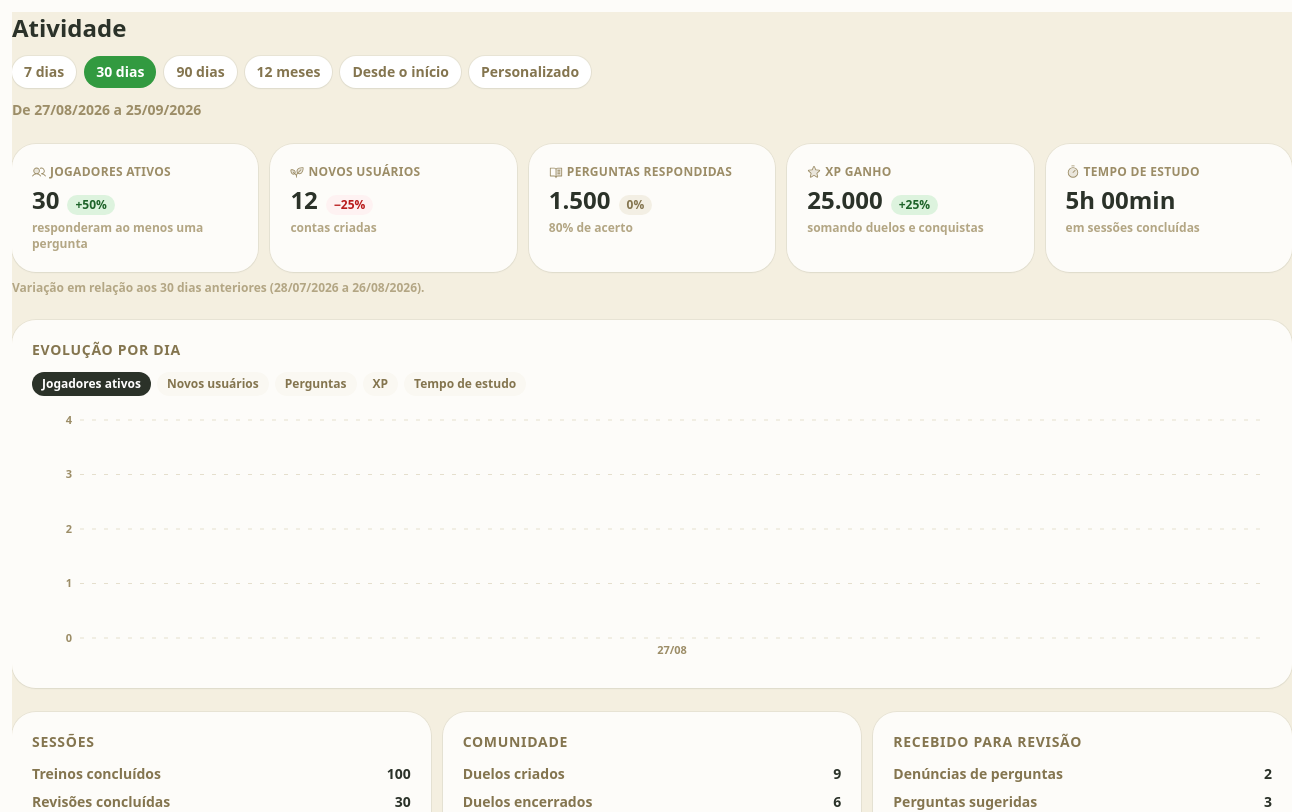
ActivityPanel › shows everything since the first day with data, without comparing
Expected: the element "Jogadores ativos" is shown, [32,163,203,252]
Click the button "Desde o início" at (401, 72), box [340,56,461,88]
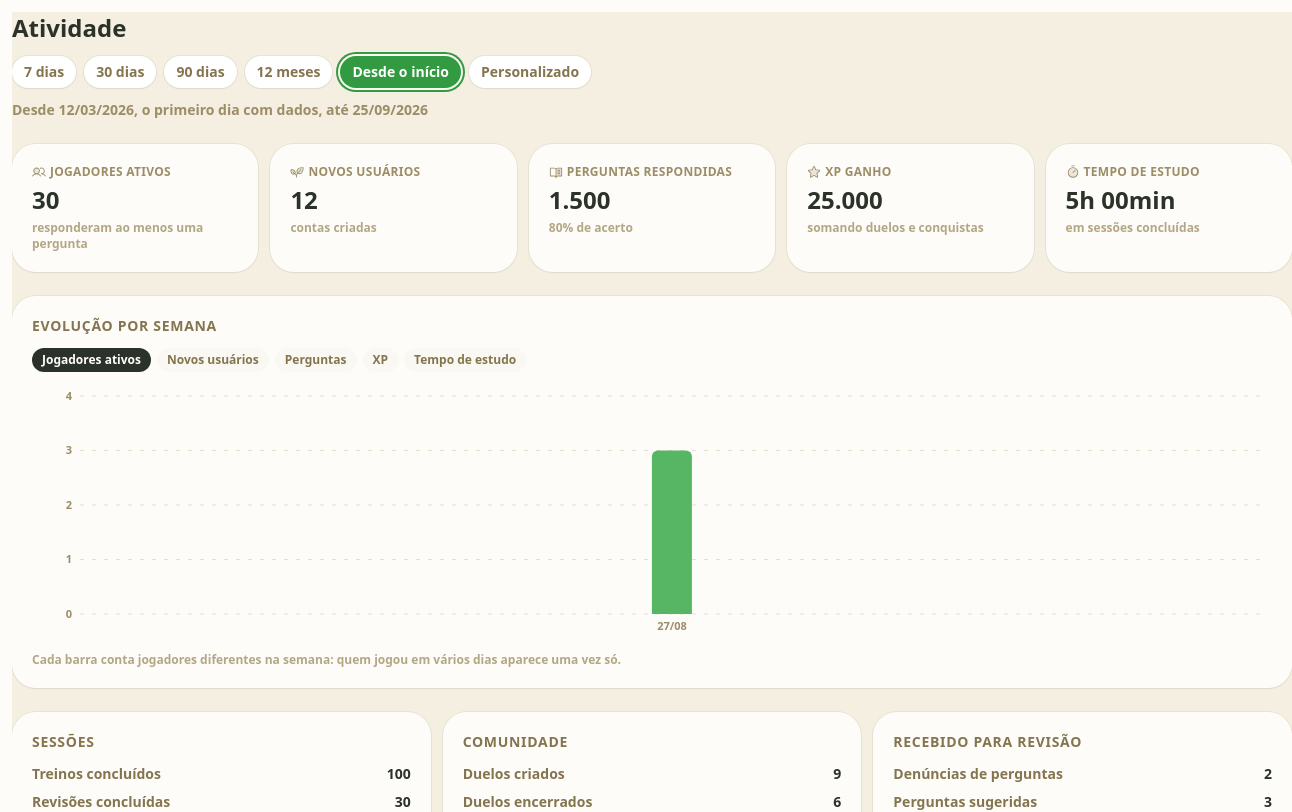
Result: the text "Desde 12/03/2026, o primeiro dia com dados, até 25/09/2026" is shown at [12,100,428,119]
Result: the text "+50%" is gone
Result: the text "Variação em relação" is gone
